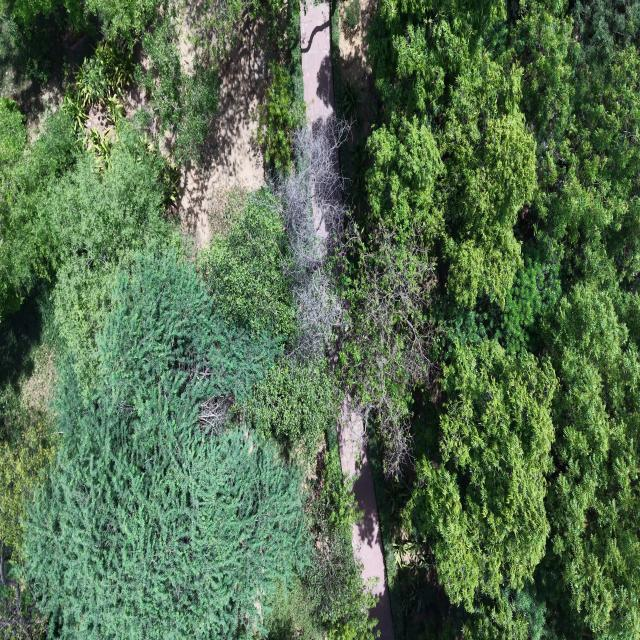DRY_AREA: (177, 18, 267, 248), (177, 19, 267, 247), (179, 19, 267, 246), (339, 397, 394, 639), (339, 397, 393, 639), (339, 0, 376, 146), (301, 2, 334, 125)
VEGETATION_TREE: (0, 0, 639, 639), (0, 3, 375, 639), (343, 0, 639, 639), (10, 150, 373, 638), (24, 254, 309, 638), (0, 111, 177, 636), (198, 131, 375, 639), (0, 112, 172, 367), (404, 341, 555, 608), (0, 0, 245, 162), (341, 119, 443, 474), (49, 123, 177, 373), (0, 296, 59, 637), (275, 118, 348, 357), (0, 114, 80, 317), (307, 432, 377, 639), (198, 189, 295, 337), (0, 0, 155, 88), (139, 2, 219, 162), (0, 376, 58, 557), (253, 0, 306, 175), (252, 358, 336, 458), (0, 2, 76, 97), (63, 40, 134, 132), (2, 0, 155, 39), (257, 63, 304, 173), (74, 41, 133, 108), (65, 0, 156, 41), (0, 98, 26, 180), (342, 76, 363, 125), (344, 0, 360, 29)
